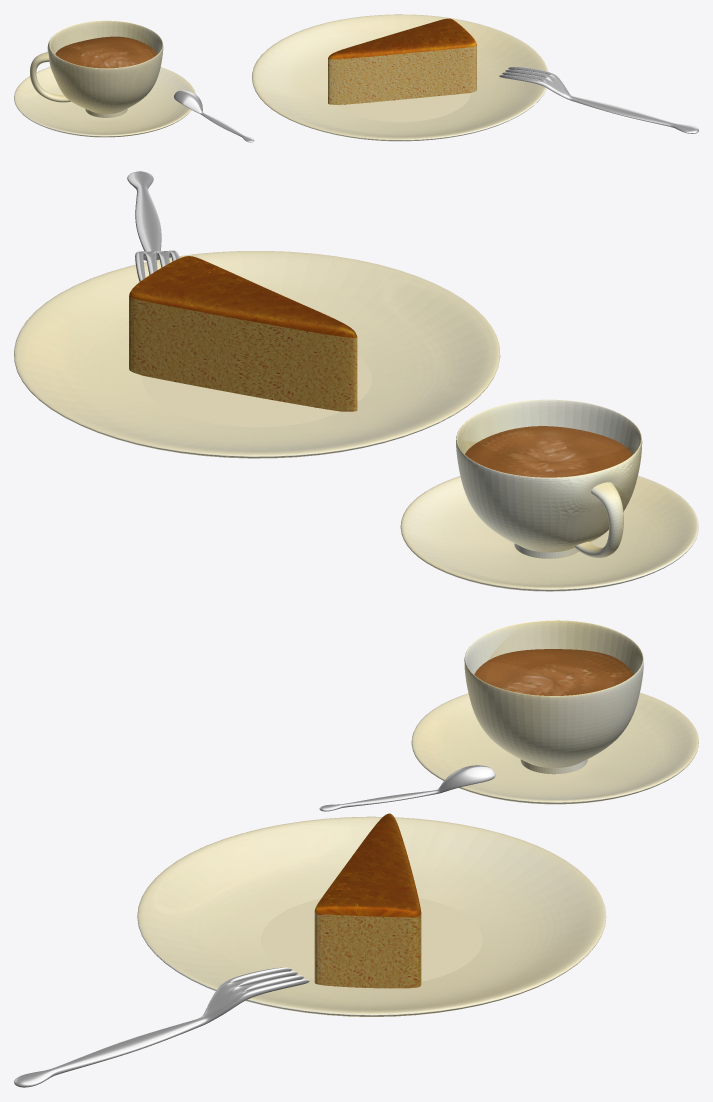
File: Food01.obj
3 renders of one model, top to bottom at view 1: azimuth 30°, elevation 25°; view 2: azimuth 150°, elevation 25°; view 3: azimuth 270°, elevation 25°, orthographic. The views are drawn at different scales.
Visible parts, largest first — view 1: BG02_R_Dish01, BG02_R_Cake01, BG02_R_Cup01, BG02_R_Dish02, BG02_R_Fork01, BG02_R_Spoon01; view 2: BG02_R_Dish01, BG02_R_Cake01, BG02_R_Cup01, BG02_R_Dish02, BG02_R_Fork01; view 3: BG02_R_Dish01, BG02_R_Cup01, BG02_R_Dish02, BG02_R_Cake01, BG02_R_Fork01, BG02_R_Spoon01.
Boxes of the visible parts, box(x1,y1,x2,y2) form: BG02_R_Dish01: box(252, 14, 548, 141); BG02_R_Cake01: box(328, 18, 476, 104); BG02_R_Cup01: box(30, 20, 163, 117); BG02_R_Dish02: box(14, 67, 195, 137); BG02_R_Fork01: box(499, 66, 698, 133); BG02_R_Spoon01: box(174, 90, 254, 142); BG02_R_Dish01: box(14, 251, 500, 458); BG02_R_Cake01: box(129, 256, 357, 411); BG02_R_Cup01: box(456, 399, 642, 558); BG02_R_Dish02: box(400, 475, 698, 591); BG02_R_Fork01: box(127, 171, 179, 281); BG02_R_Dish01: box(137, 816, 606, 1016); BG02_R_Cup01: box(464, 620, 643, 774); BG02_R_Dish02: box(411, 692, 698, 804); BG02_R_Cake01: box(314, 813, 421, 988); BG02_R_Fork01: box(14, 967, 309, 1087); BG02_R_Spoon01: box(319, 765, 495, 811).
Bounding box in the file's own units: 183 × 23.61 × 137.
